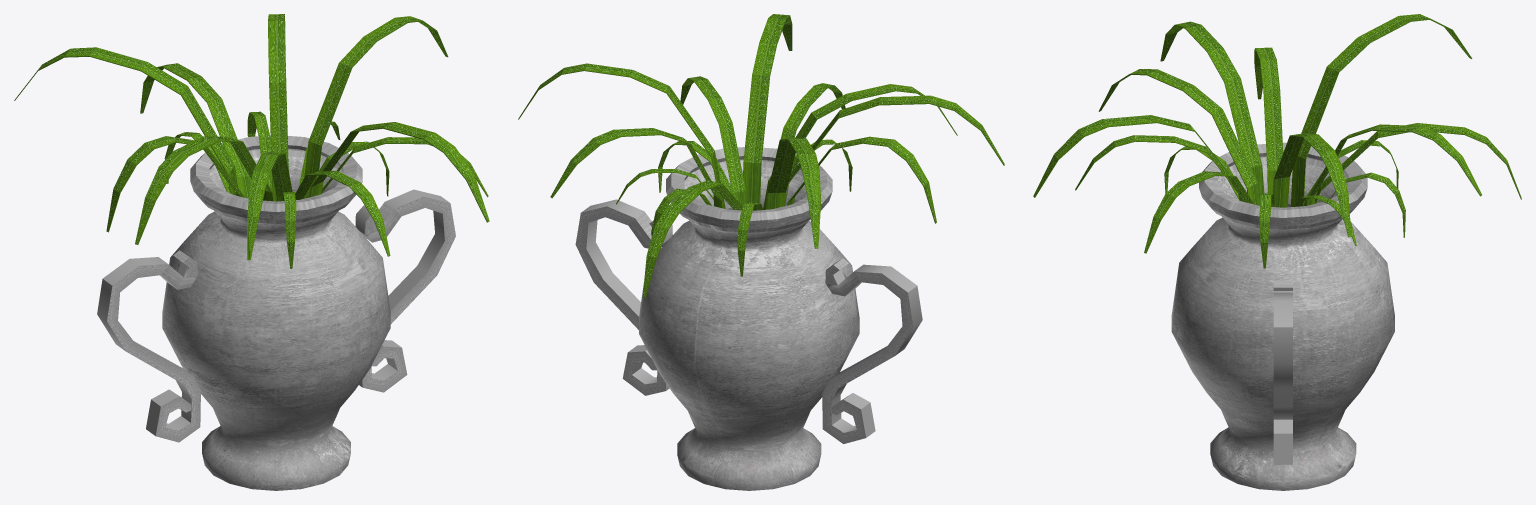
Rendered from Flowerpot.fbx.
3 renders of one model, left to right at view 1: azimuth 30°, elevation 25°; view 2: azimuth 150°, elevation 25°; view 3: azimuth 270°, elevation 25°, orthographic. The views are drawn at different scales.
Parts seen in each view (by area): view 1: Cylinder048; view 2: Cylinder048; view 3: Cylinder048.
Boxes of the visible parts, box(x1,y1,x2,y2) form: Cylinder048: box(14, 14, 489, 490); Cylinder048: box(518, 14, 1004, 490); Cylinder048: box(1033, 14, 1521, 490).
Size of the model in its own units: 94.45 by 87.01 by 100.
2 materials, 2 textured.
